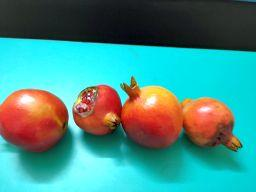pomegranate: (119, 76, 183, 148), (0, 88, 69, 153), (183, 97, 243, 151), (72, 85, 122, 135)
